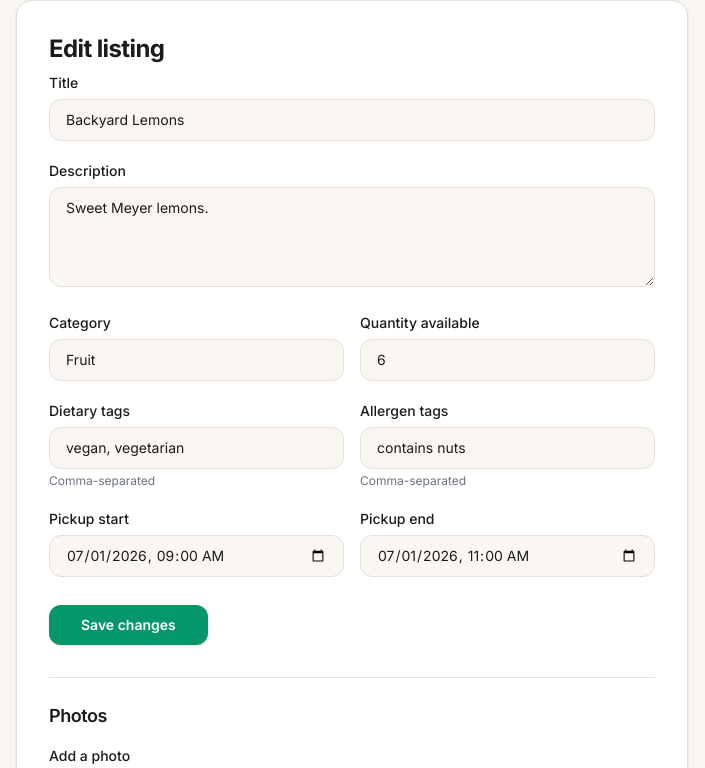
Test: shows the backend detail on a failed save without a debug dump
Click the button "Save changes": (128, 625) [49, 605, 208, 645]
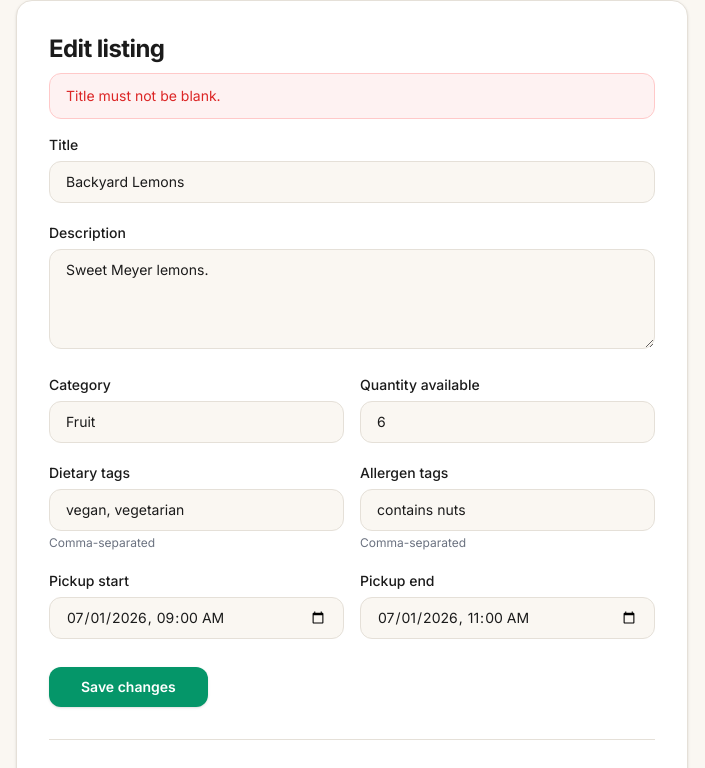
Result: the message reads "Title must not be blank." at [66, 87, 221, 104]
